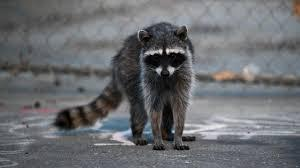raccoon: (33, 7, 231, 162)
